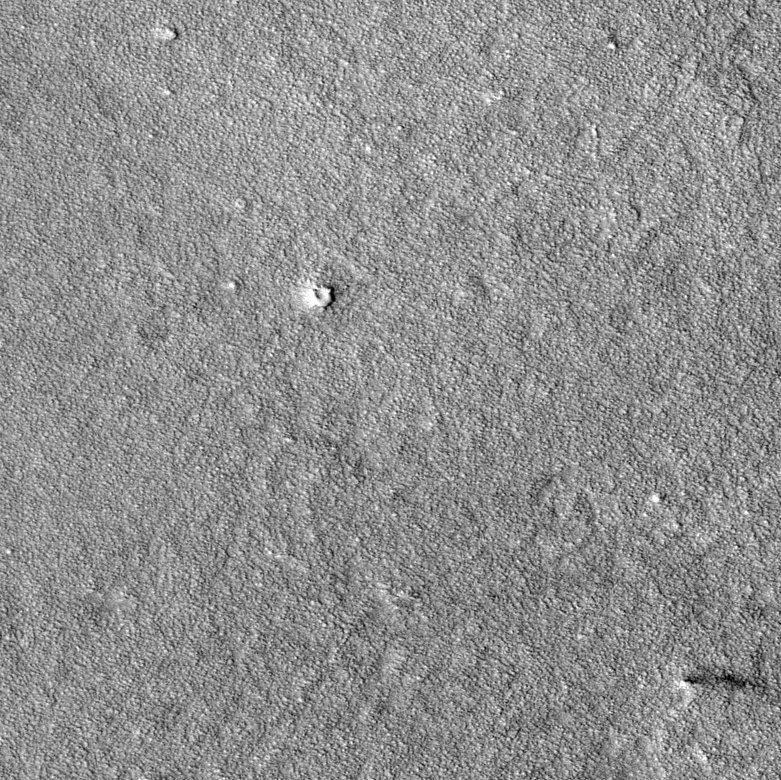dust_devil: (677, 666, 768, 706)
